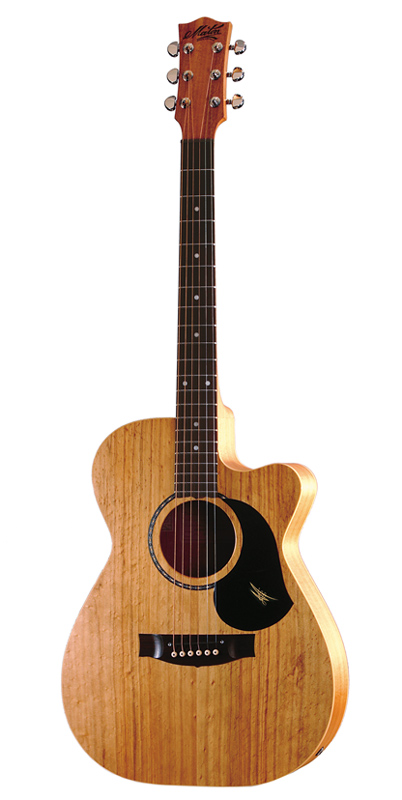guitar: (60, 13, 350, 787)
